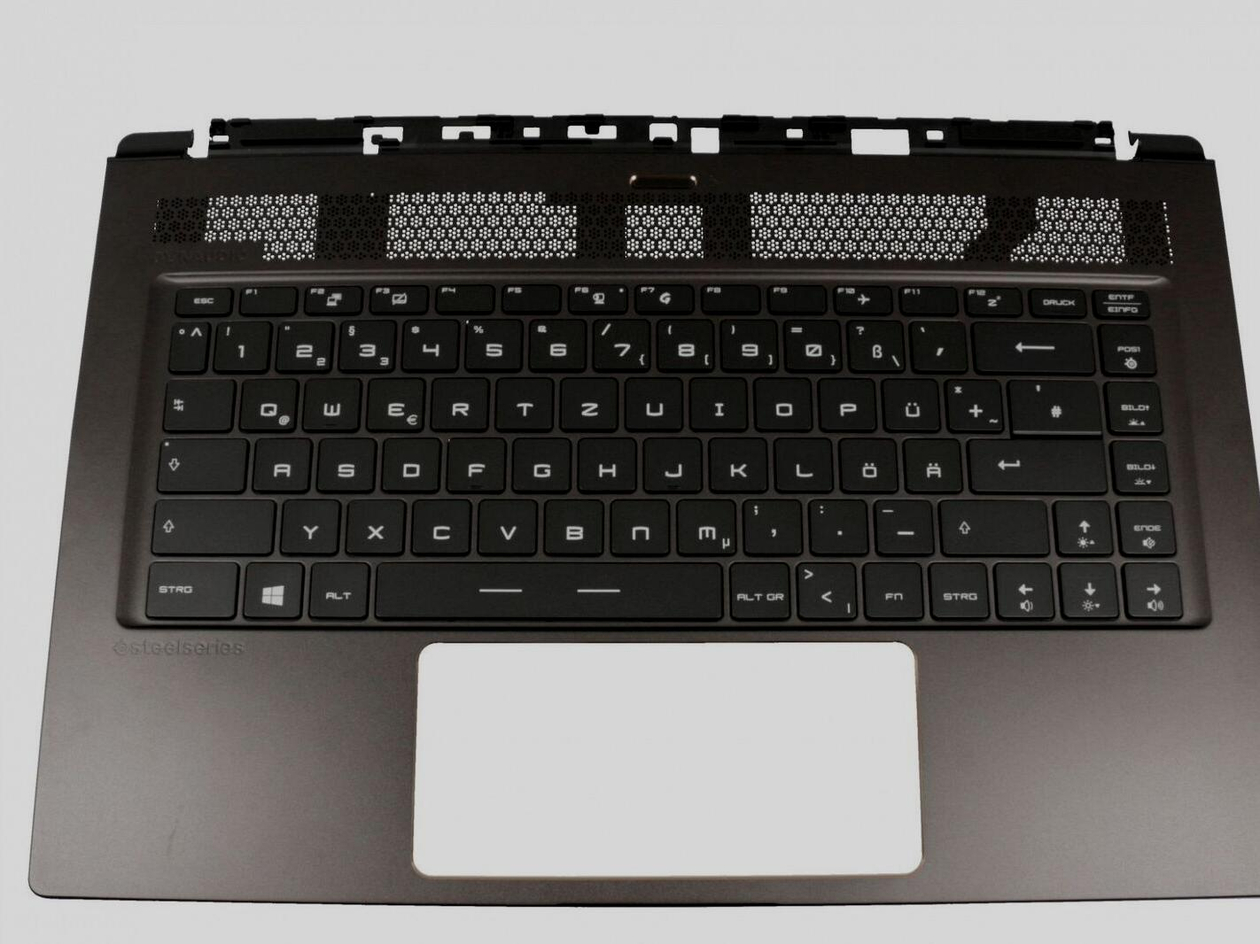0: (780, 314, 840, 369)
1: (210, 316, 268, 370)
2: (272, 316, 332, 370)
3: (334, 314, 394, 370)
4: (398, 313, 456, 368)
5: (460, 314, 521, 369)
6: (525, 314, 585, 369)
7: (589, 313, 649, 369)
8: (652, 313, 712, 369)
9: (716, 314, 777, 369)
a: (249, 431, 310, 491)
accent: (906, 315, 965, 369)
ae: (899, 432, 961, 491)
alt-left: (305, 556, 369, 617)
altgr-right: (726, 557, 790, 618)
b: (540, 494, 603, 554)
c: (407, 494, 471, 553)
caret: (167, 320, 207, 371)
comma: (738, 493, 800, 553)
d: (378, 432, 439, 491)
del: (969, 317, 1093, 371)
e: (362, 372, 424, 429)
enter: (964, 432, 1105, 491)
f: (443, 431, 504, 491)
g: (508, 432, 570, 491)
h: (573, 431, 635, 491)
hash: (1004, 375, 1101, 431)
i: (686, 371, 746, 427)
j: (640, 431, 701, 491)
k: (704, 431, 766, 491)
keyboard: (115, 260, 1217, 638)
l: (770, 431, 830, 490)
less: (792, 558, 857, 619)
m: (672, 493, 735, 554)
minus: (868, 494, 932, 553)
n: (605, 493, 669, 553)
o: (751, 372, 812, 429)
oe: (835, 433, 897, 491)
p: (815, 373, 875, 429)
plus: (941, 374, 1001, 429)
point: (805, 494, 866, 553)
q: (235, 373, 297, 429)
r: (427, 372, 488, 429)
s: (313, 432, 375, 491)
shift-left: (147, 491, 275, 553)
shift-lock: (152, 432, 245, 491)
shift-right: (936, 493, 1048, 553)
space: (369, 556, 725, 620)
ss: (844, 315, 902, 369)
strg-left: (138, 555, 238, 618)
strg-right: (926, 557, 990, 618)
t: (492, 372, 552, 429)
tab: (159, 373, 232, 429)
u: (621, 371, 681, 429)
ue: (879, 373, 937, 429)
v: (473, 493, 537, 553)
w: (299, 372, 360, 429)
x: (342, 493, 404, 553)
y: (276, 493, 339, 553)
z: (556, 372, 618, 429)
